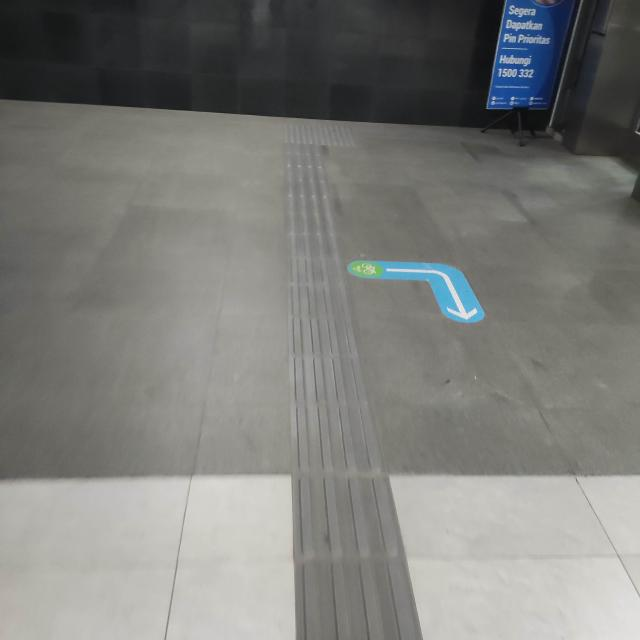lurus: (248, 151, 420, 640)
